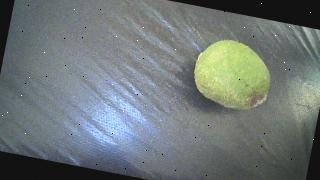DESECHO: (189, 34, 277, 114)
